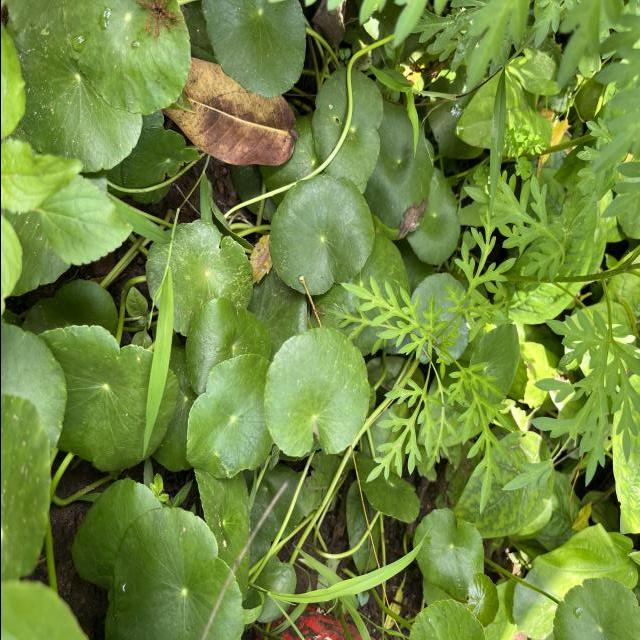Bacopa monnieri: (30, 324, 180, 474), (111, 504, 246, 640), (260, 324, 372, 459), (266, 172, 376, 298), (143, 218, 254, 338), (183, 351, 278, 480), (199, 0, 309, 100), (411, 507, 484, 598), (462, 570, 500, 630)
